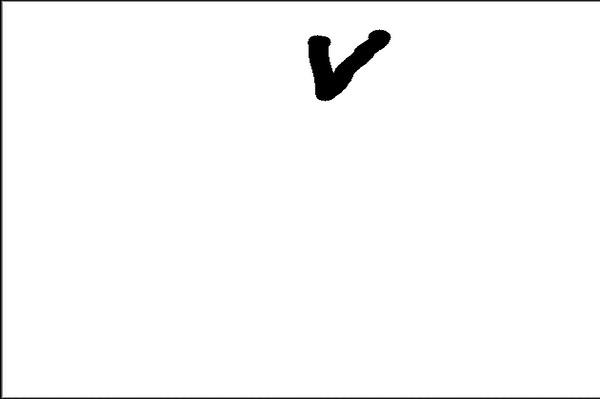V: (299, 23, 397, 103)
